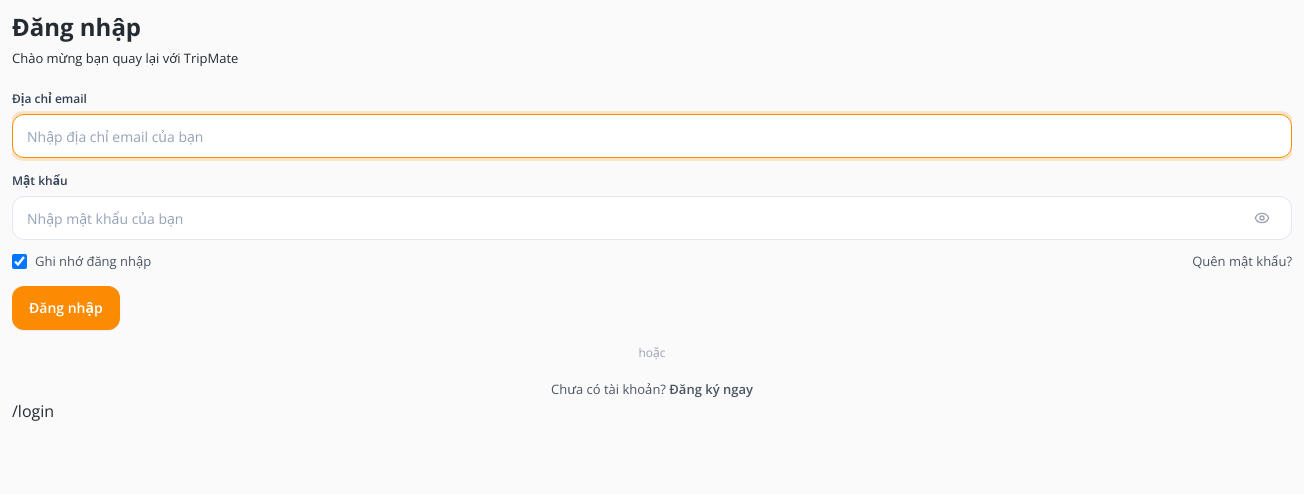
Test: Màn Đăng nhập › 400 khác (MISSING_FIELDS) không bị coi là "chưa xác thực": hiện lỗi, ở lại màn đăng nhập
Type "moi@gmail.com" into the field labelled "Địa chỉ email" at (652, 136), box [12,114,1292,158]
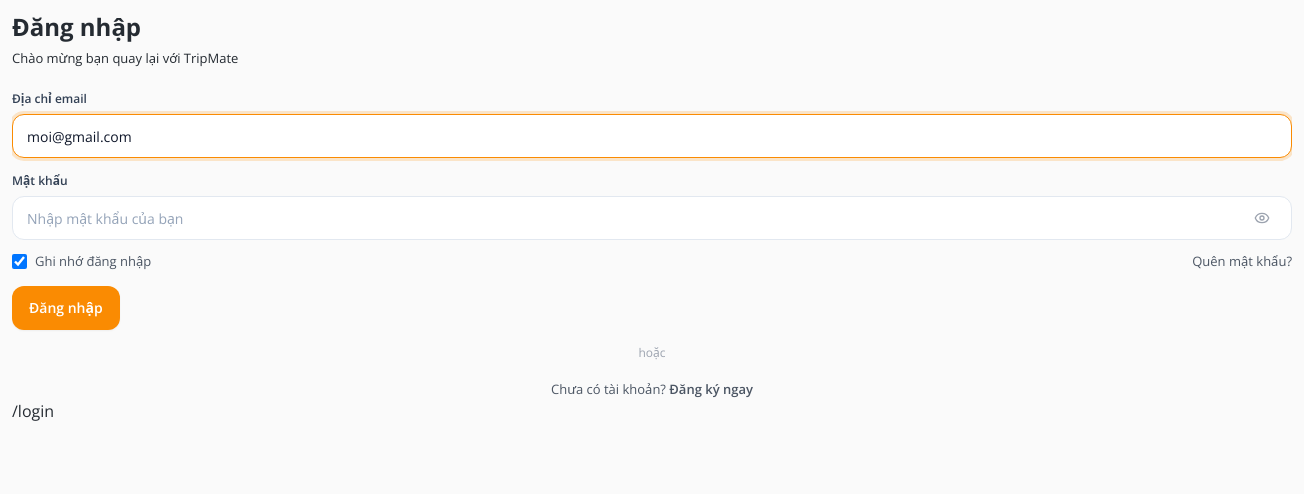
Type "MatKhau1" into the password field labelled "Mật khẩu" at (652, 218), box [12,196,1292,240]
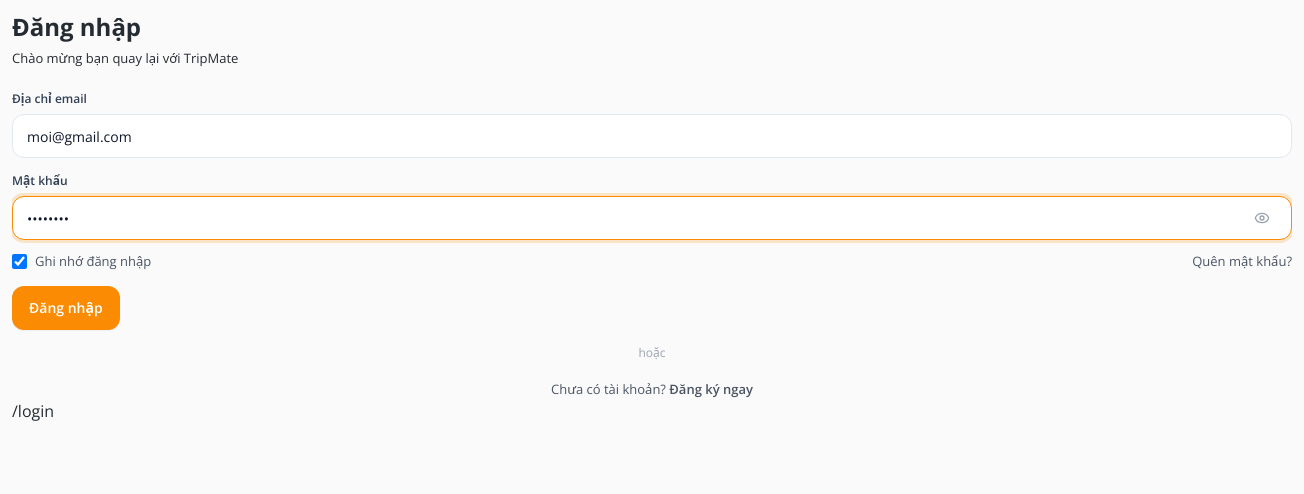
Click the button "Đăng nhập" at (66, 308), box [12,286,120,330]
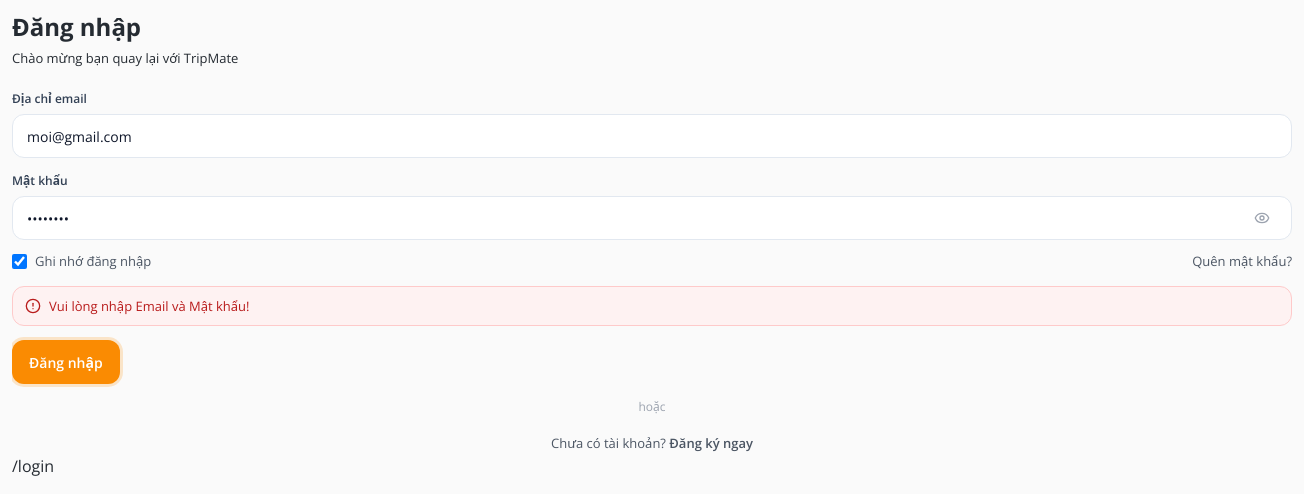
Expected: the text with test id "location" reads "/login", [12,455,54,477]
Expected: the message reads "Vui lòng nhập Email và Mật khẩu!", [49,297,250,315]
